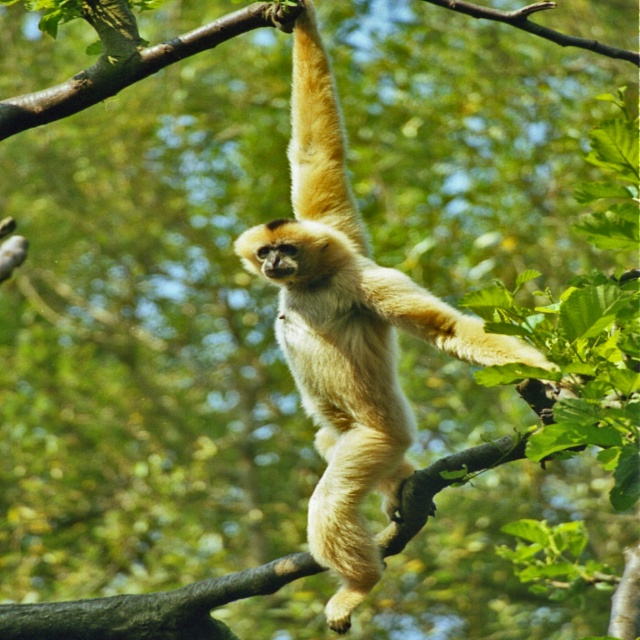Monkey: (232, 0, 621, 635)
